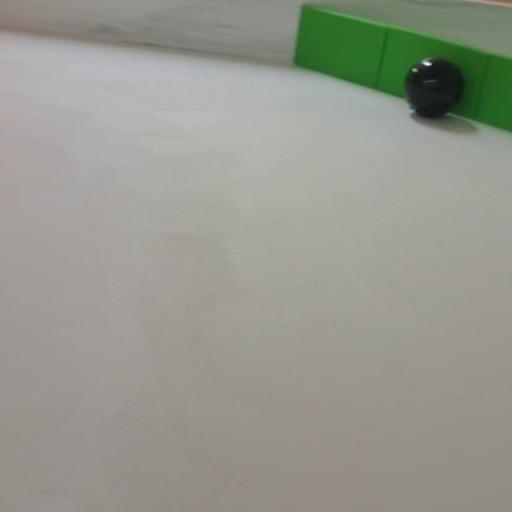dead: (402, 56, 464, 119)
